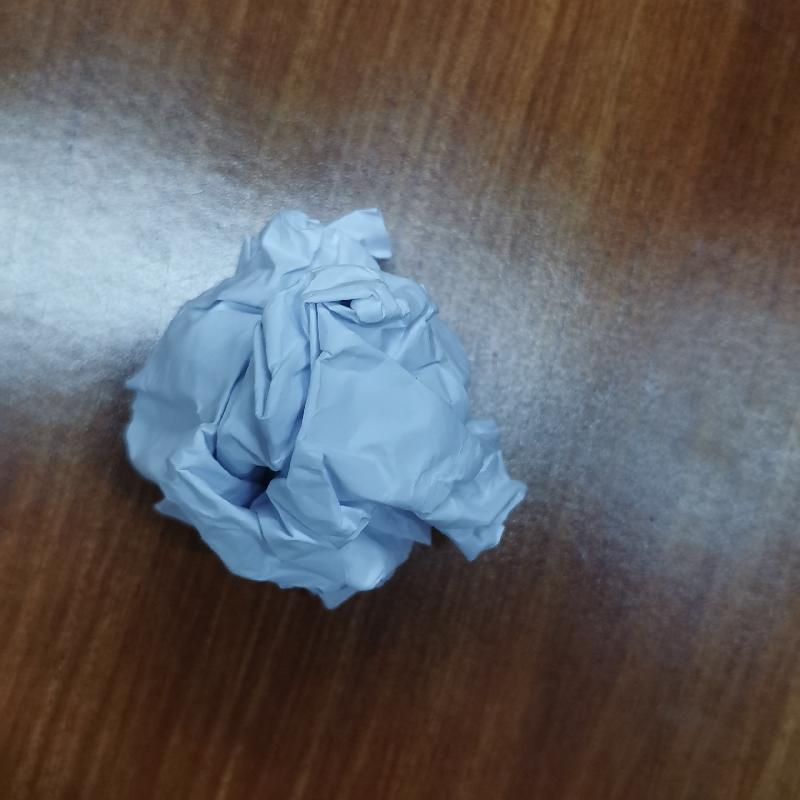spitball: (106, 203, 529, 611)
